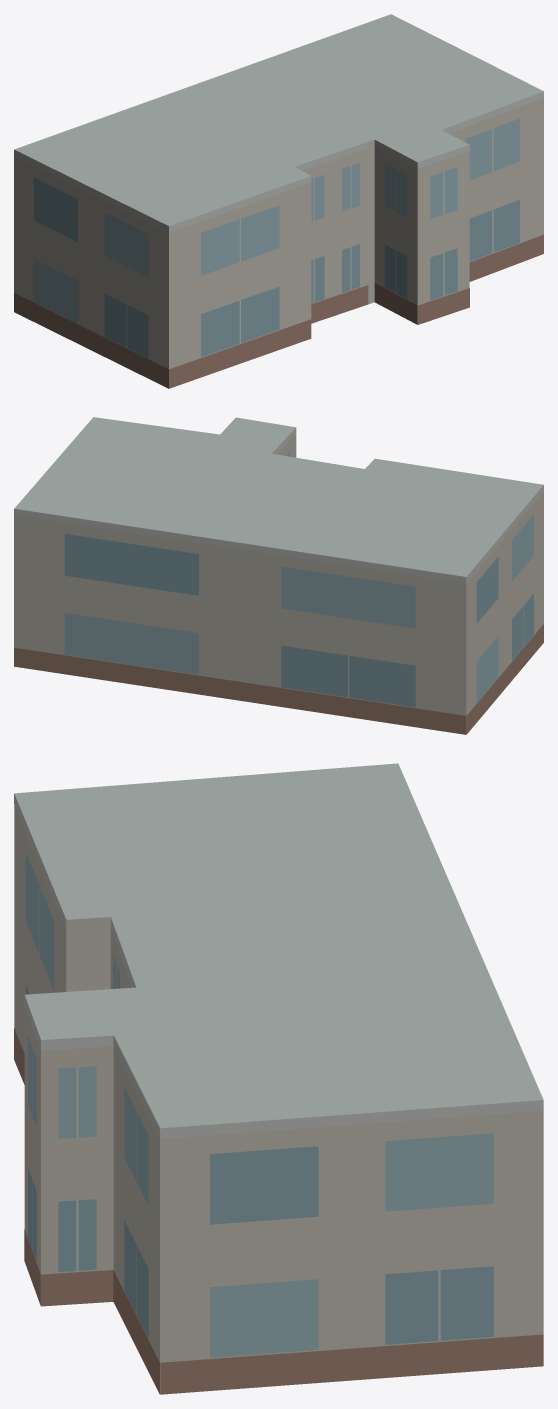
File: survey-upis-32879833.glb
The picture shows the model from 3 angles, top to bottom: view 1: azimuth 30°, elevation 25°; view 2: azimuth 150°, elevation 25°; view 3: azimuth 270°, elevation 25°; orthographic projection. The views are drawn at different scales.
Visible parts, largest first — view 1: survey-upis-32879833.tmp; view 2: survey-upis-32879833.tmp; view 3: survey-upis-32879833.tmp.
Boxes of the visible parts, box(x1,y1,x2,y2) form: survey-upis-32879833.tmp: box(14, 14, 543, 388); survey-upis-32879833.tmp: box(14, 417, 543, 734); survey-upis-32879833.tmp: box(14, 763, 543, 1394).
Size of the model in its own units: 17.95 by 6.1 by 11.01.
